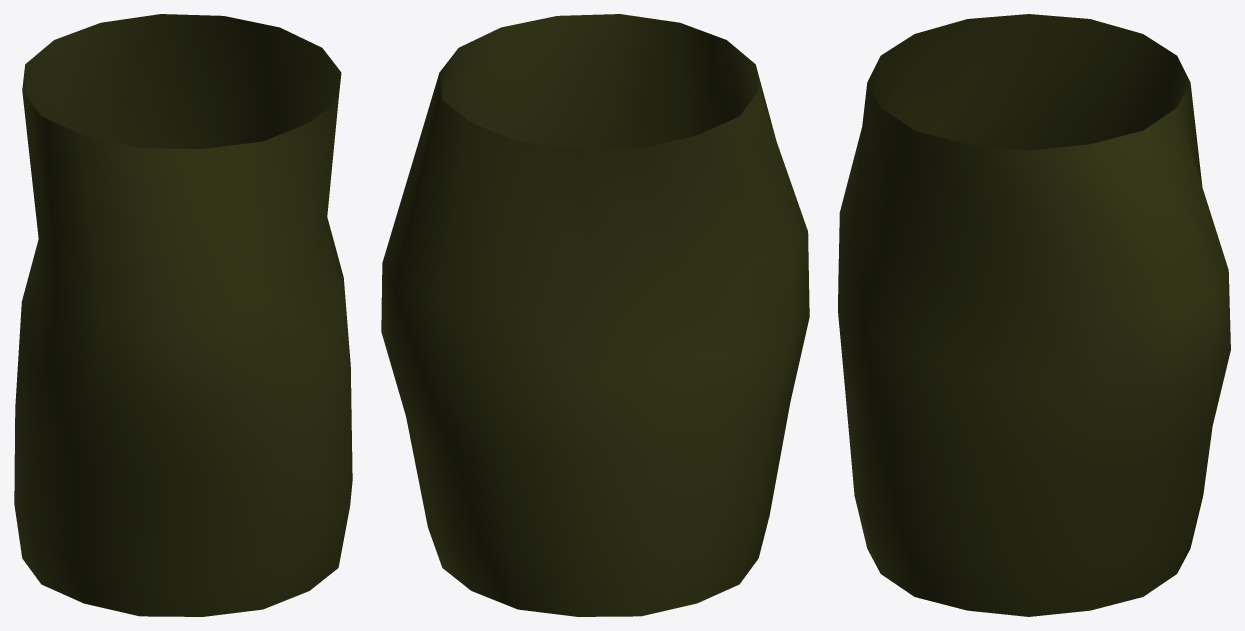
The model's file is tree_core.fbx.
3 views of the same model, side by side, from view 1: azimuth 30°, elevation 25°; view 2: azimuth 150°, elevation 25°; view 3: azimuth 270°, elevation 25° (orthographic).
Parts seen in each view (by area): view 1: tree_core; view 2: tree_core; view 3: tree_core.
Part boxes in pixels (x1=…): tree_core: x1=14, y1=14, x2=352, y2=616; tree_core: x1=381, y1=14, x2=809, y2=616; tree_core: x1=838, y1=14, x2=1230, y2=616.
Bounding box in the file's own units: 74.19 × 100 × 76.37.
